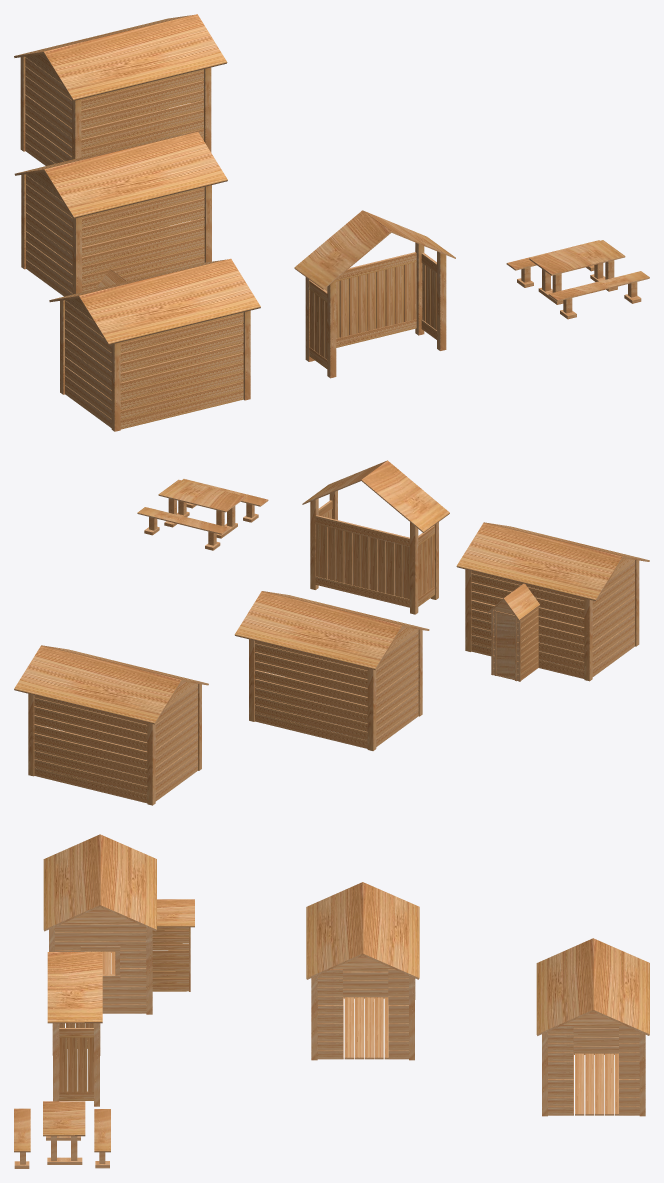
3 renders of one model, top to bottom at view 1: azimuth 30°, elevation 25°; view 2: azimuth 150°, elevation 25°; view 3: azimuth 270°, elevation 25°, orthographic. The views are drawn at different scales.
Visible parts, largest first — view 1: A1, A2, A3, A5, A4; view 2: A1, A2, A3, A5, A4; view 3: A1, A2, A3, A5, A4.
Boxes of the visible parts, <box> form: A1: <box>49,258,260,431</box>; A2: <box>14,132,227,296</box>; A3: <box>14,14,227,165</box>; A5: <box>294,210,455,378</box>; A4: <box>506,240,649,319</box>; A1: <box>456,522,649,681</box>; A2: <box>234,591,429,750</box>; A3: <box>14,645,208,805</box>; A5: <box>302,460,449,614</box>; A4: <box>137,479,268,550</box>; A1: <box>43,834,194,1014</box>; A2: <box>306,882,419,1060</box>; A3: <box>536,938,649,1116</box>; A5: <box>47,952,102,1106</box>; A4: <box>14,1101,110,1168</box>.
Size of the model in its own units: 23.96 by 5.86 by 26.36.
Materials: 1 (1 with a texture image).
